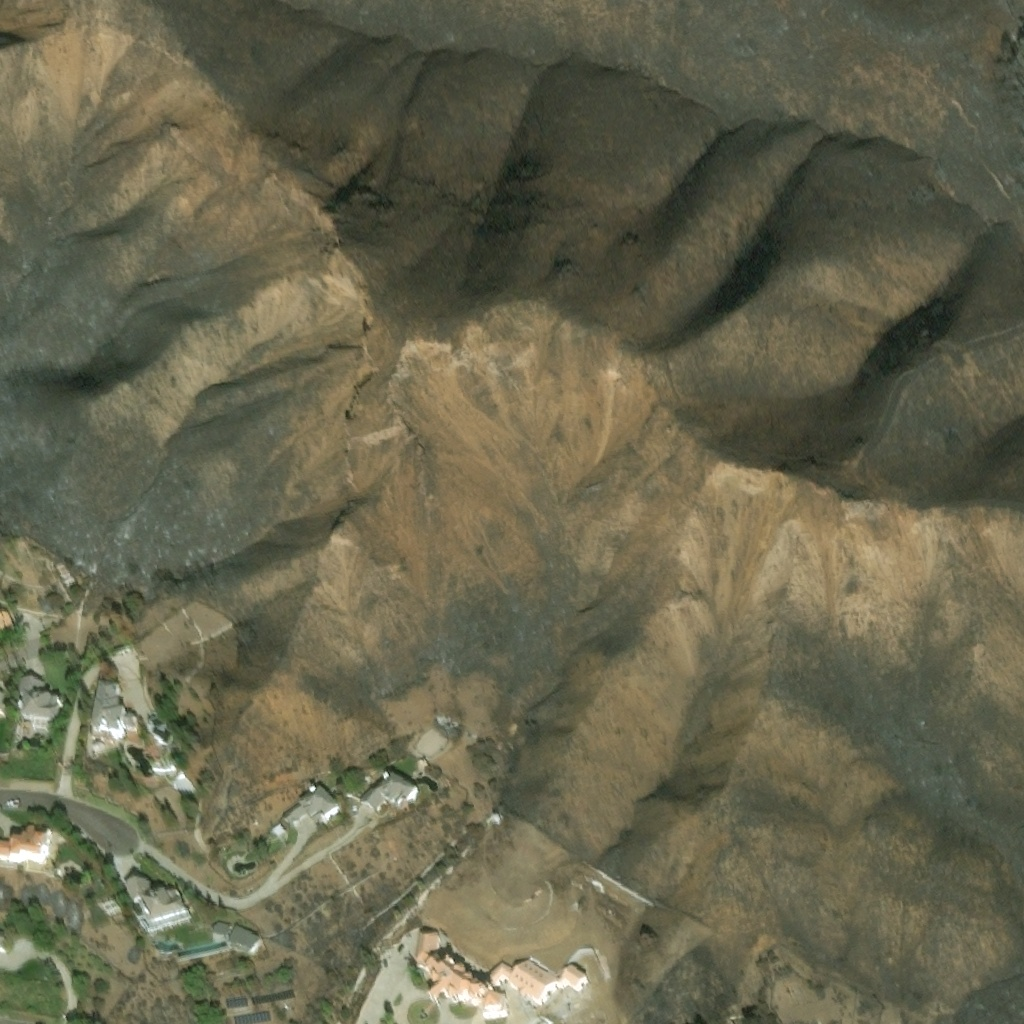0 no-damage: (414, 925, 503, 1013), (484, 955, 589, 1007), (125, 877, 192, 934), (360, 774, 421, 822), (280, 784, 342, 830), (94, 688, 140, 744), (19, 680, 62, 736), (229, 927, 260, 955), (149, 714, 174, 744), (252, 989, 296, 1004), (232, 1010, 270, 1023), (212, 921, 232, 939), (0, 694, 10, 722), (271, 822, 288, 838), (226, 997, 246, 1008), (441, 717, 459, 728), (767, 949, 780, 964), (96, 750, 110, 763), (54, 560, 68, 573), (0, 928, 8, 940)
